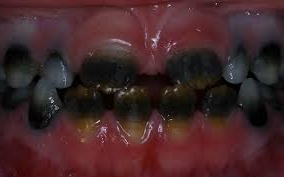Tooth Discoloration: (0, 39, 281, 141)
